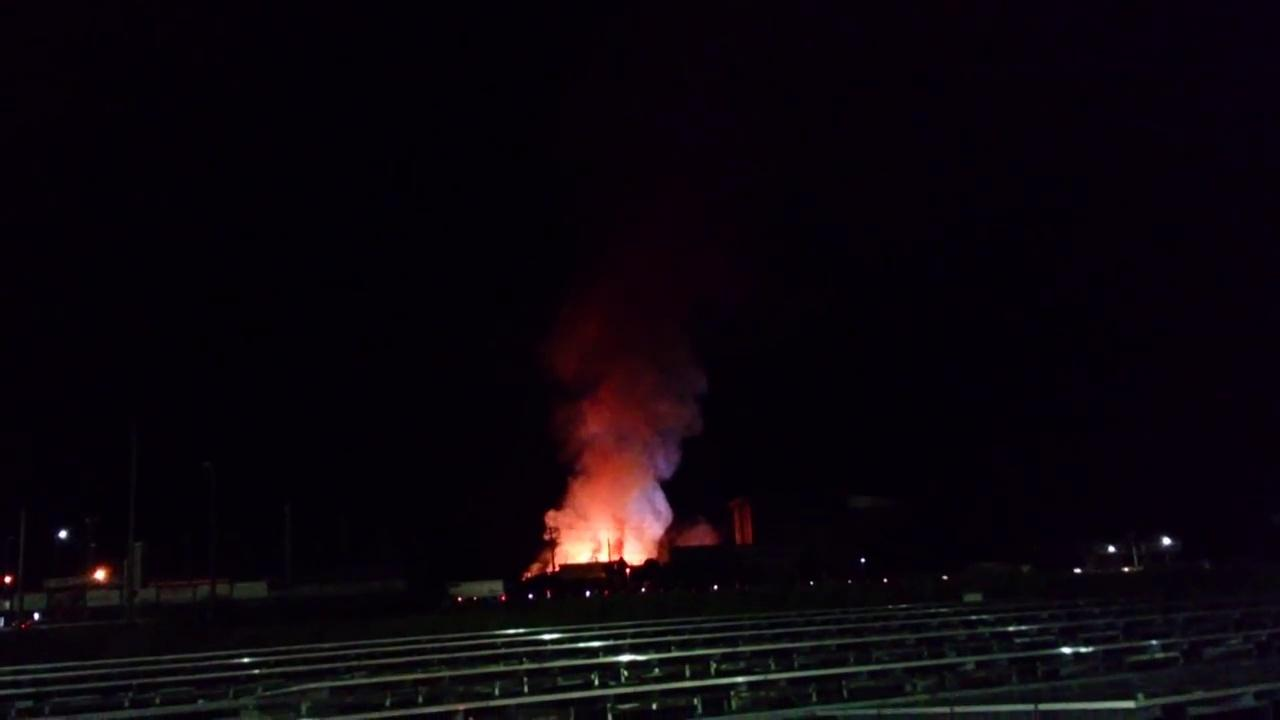smoke: (580, 350, 692, 538)
